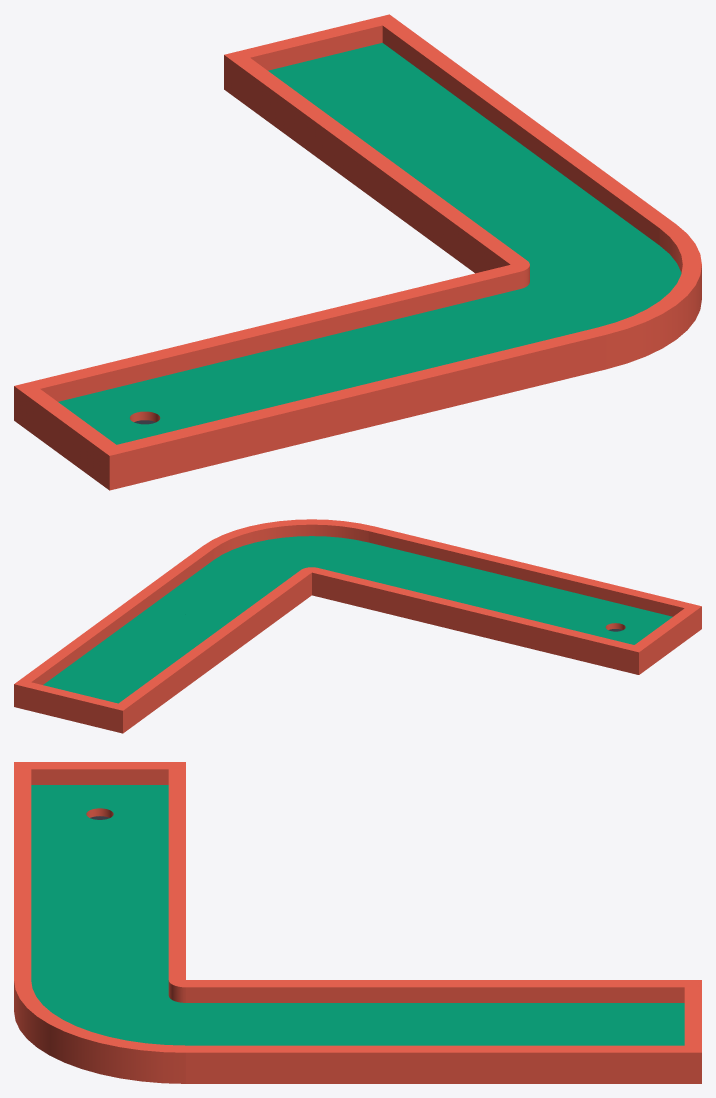
Rendered from Hole1.fbx.
3 renders of one model, top to bottom at view 1: azimuth 30°, elevation 25°; view 2: azimuth 150°, elevation 25°; view 3: azimuth 270°, elevation 25°, orthographic. The views are drawn at different scales.
Visible parts, largest first — view 1: mergedBlocks; view 2: mergedBlocks; view 3: mergedBlocks.
Part boxes in pixels (x1,y1,x2,y2): mergedBlocks: (14,14,701,490); mergedBlocks: (14,519,701,733); mergedBlocks: (14,762,701,1083).
Bounding box in the file's own units: 40 × 2 × 40.
